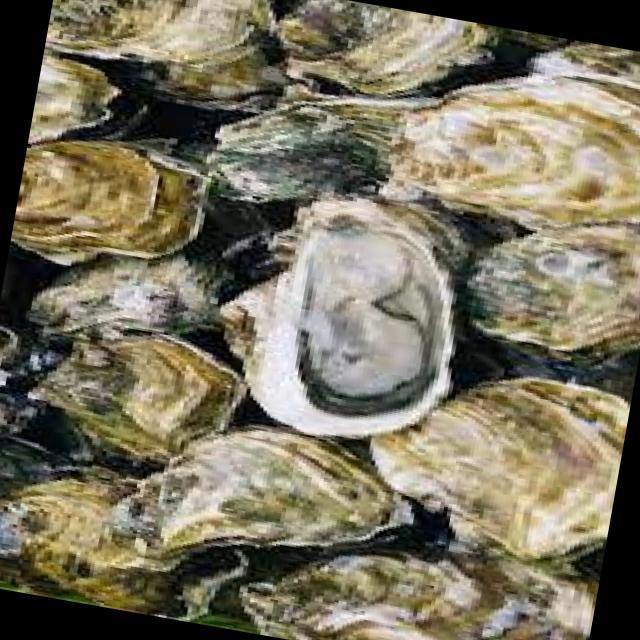Oyster-Closed: (369, 380, 628, 563), (391, 77, 640, 227), (143, 429, 420, 554), (238, 551, 600, 640), (276, 0, 564, 99), (464, 221, 640, 383), (33, 336, 249, 467), (11, 140, 208, 266), (14, 472, 167, 615), (204, 100, 393, 200), (9, 255, 220, 342), (45, 0, 261, 66), (29, 56, 122, 144)
Oyster-Open: (242, 199, 457, 441)
